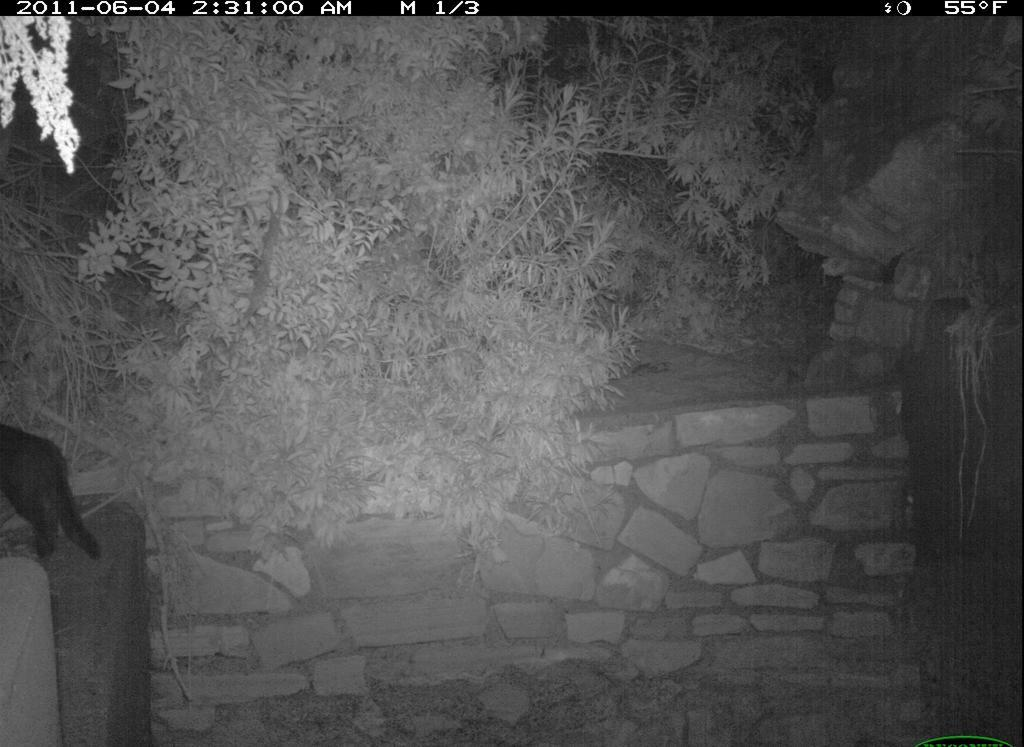cat: (3, 420, 104, 564)
